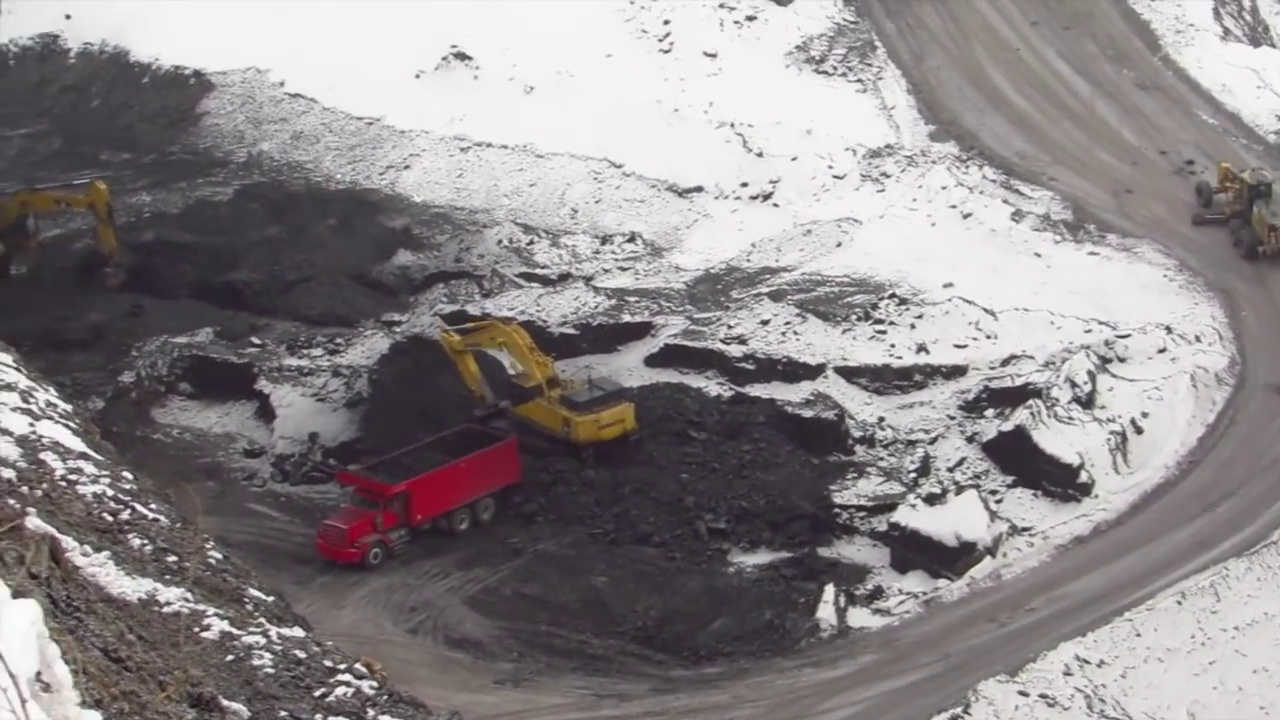excavator: (436, 316, 641, 469), (2, 174, 135, 308)
truck: (311, 421, 527, 569)
